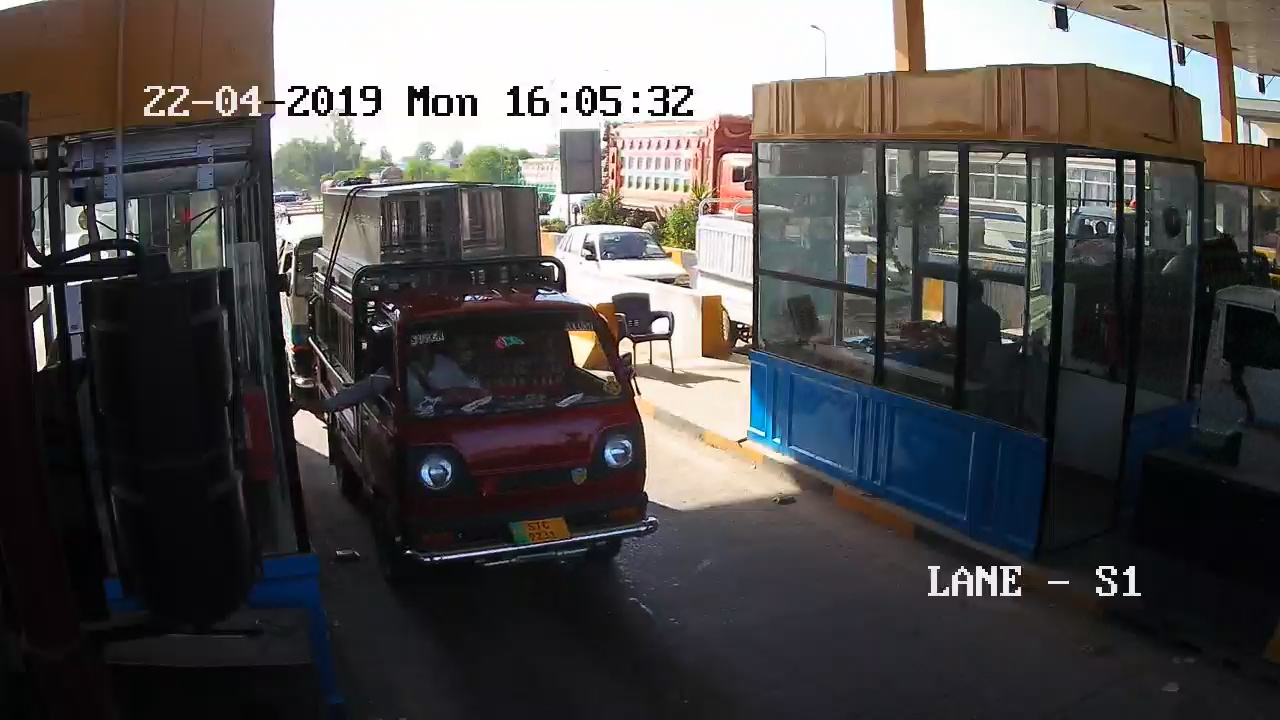Number Plate (Car): (507, 518, 574, 543)
